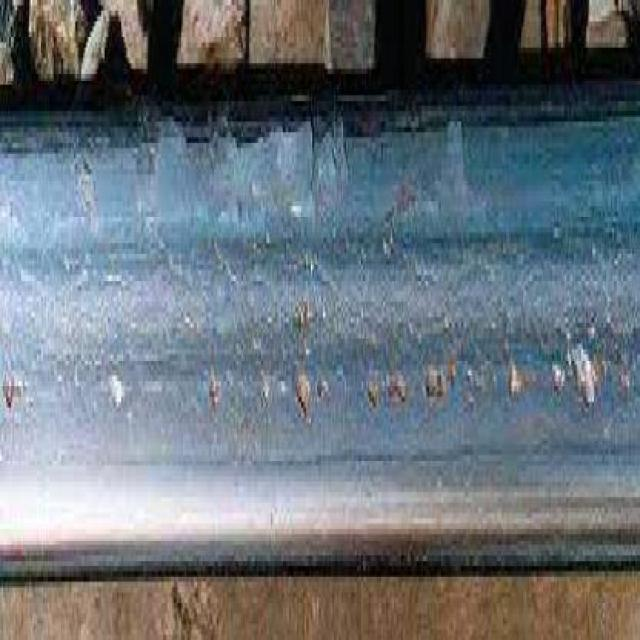defective: (4, 67, 640, 635)
